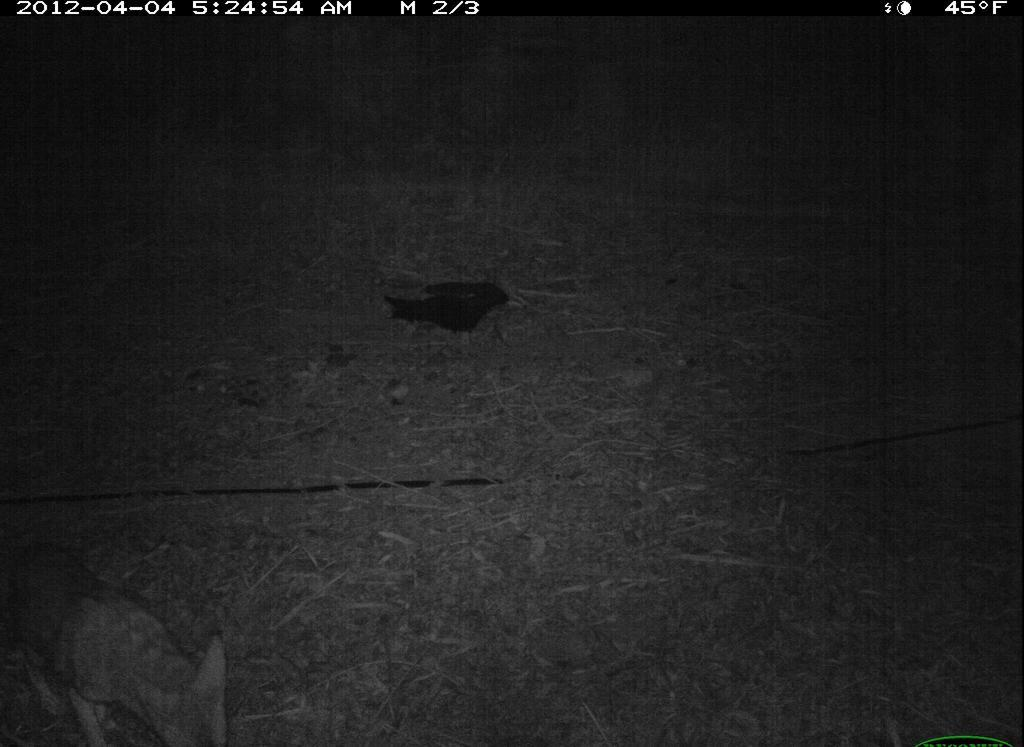coyote: (4, 521, 242, 747)
